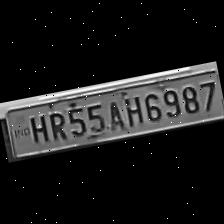5: (80, 100, 106, 136), (61, 104, 86, 140)
6: (138, 88, 162, 124)
7: (195, 78, 220, 114)
8: (176, 82, 200, 117)
9: (158, 84, 183, 120)
A: (102, 96, 127, 132)
H: (23, 112, 50, 146), (120, 92, 144, 128)
R: (44, 108, 68, 142)
